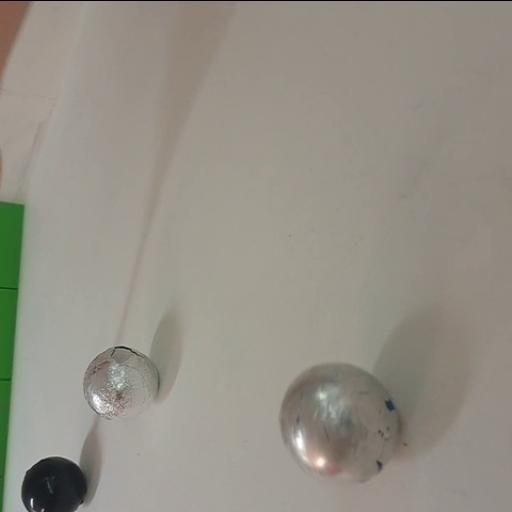alive: (278, 360, 404, 486), (82, 345, 158, 422)
dead: (19, 455, 86, 512)
